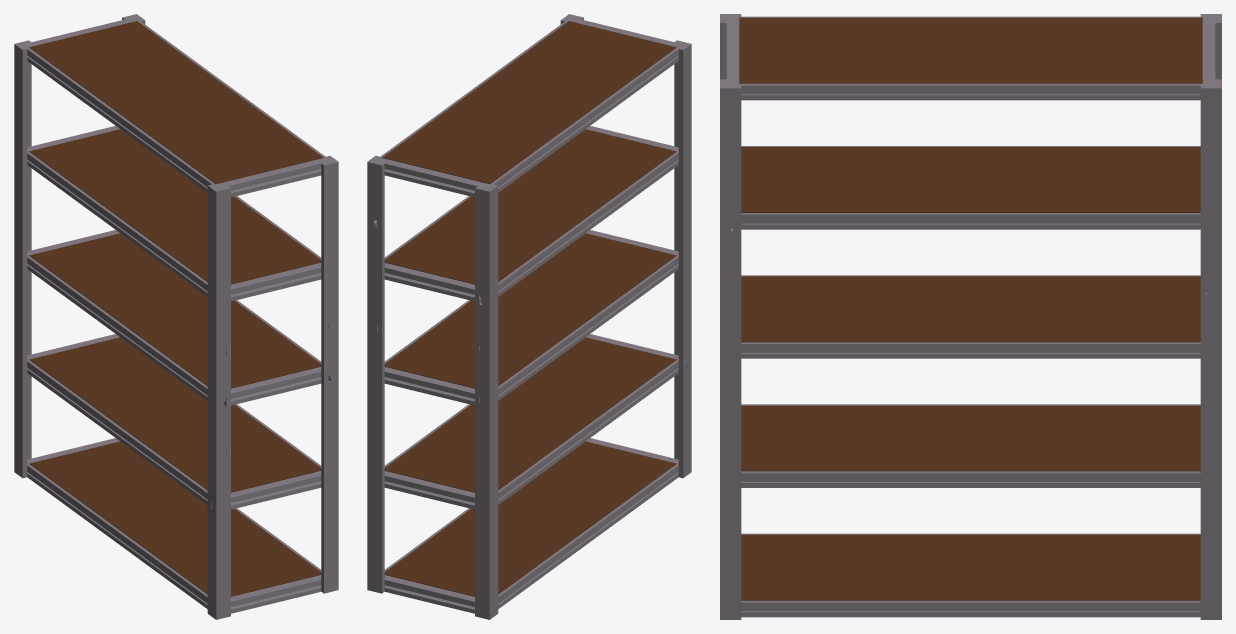
Rendered from PH_MetallicShelves.fbx.
3 renders of one model, left to right at view 1: azimuth 30°, elevation 25°; view 2: azimuth 150°, elevation 25°; view 3: azimuth 270°, elevation 25°, orthographic. The views are drawn at different scales.
Visible parts, largest first — view 1: Cube, Backup Metalic Shelves; view 2: Cube, Backup Metalic Shelves; view 3: Cube, Backup Metalic Shelves.
Boxes of the visible parts, x1,y1,x2,y2 form: Cube: (21, 17, 330, 613); Backup Metalic Shelves: (14, 14, 338, 619); Cube: (375, 17, 684, 613); Backup Metalic Shelves: (367, 14, 691, 619); Cube: (726, 16, 1215, 617); Backup Metalic Shelves: (720, 14, 1221, 619).
Bounding box in the file's own units: 53.93 × 180 × 154.
